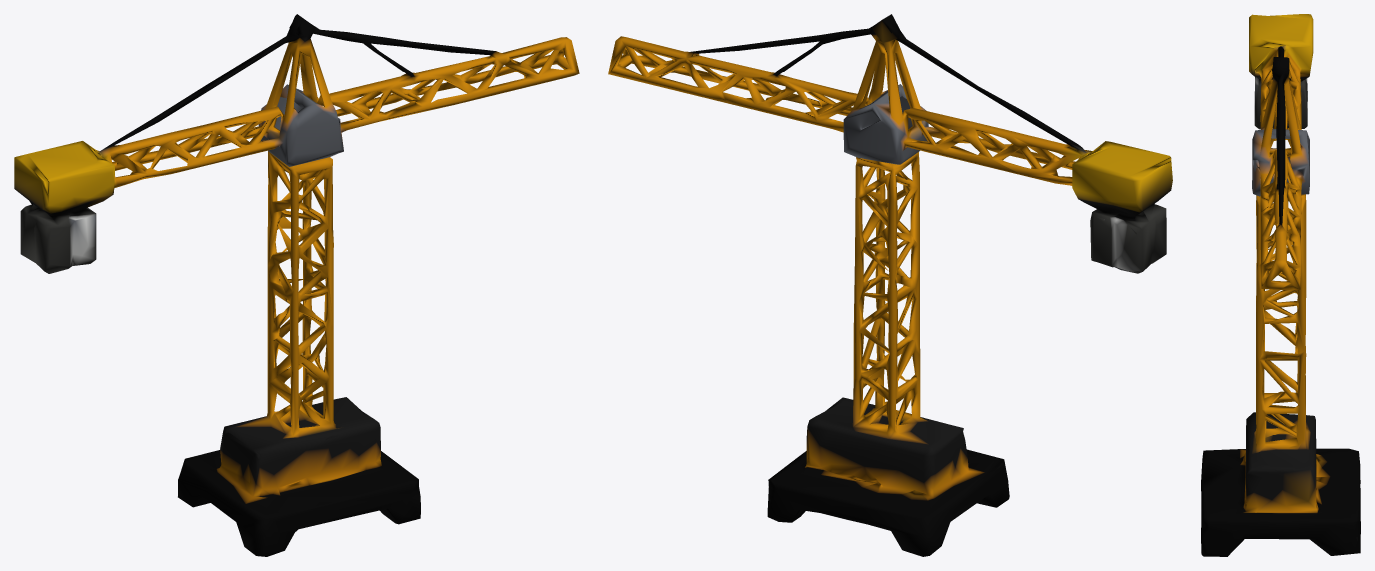
Rendered from gen3d-crane-lod0.glb.
3 views of the same model, side by side, from view 1: azimuth 30°, elevation 25°; view 2: azimuth 150°, elevation 25°; view 3: azimuth 270°, elevation 25° (orthographic). The views are drawn at different scales.
Visible parts, largest first — view 1: part_0; view 2: part_0; view 3: part_0.
Boxes of the visible parts, x1,y1,x2,y2 form: part_0: (14, 14, 579, 556); part_0: (608, 14, 1172, 556); part_0: (1201, 14, 1360, 556).
Bounding box in the file's own units: 1.15 × 0.9995 × 0.3127.
